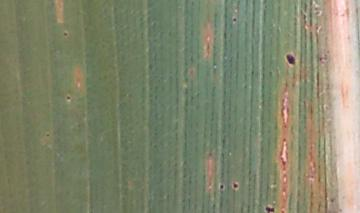tarspot: (285, 52, 296, 65), (266, 205, 275, 212), (62, 30, 69, 38), (232, 182, 239, 190), (231, 15, 238, 23), (316, 55, 324, 62), (65, 94, 72, 101), (44, 132, 51, 138), (219, 182, 224, 190)
